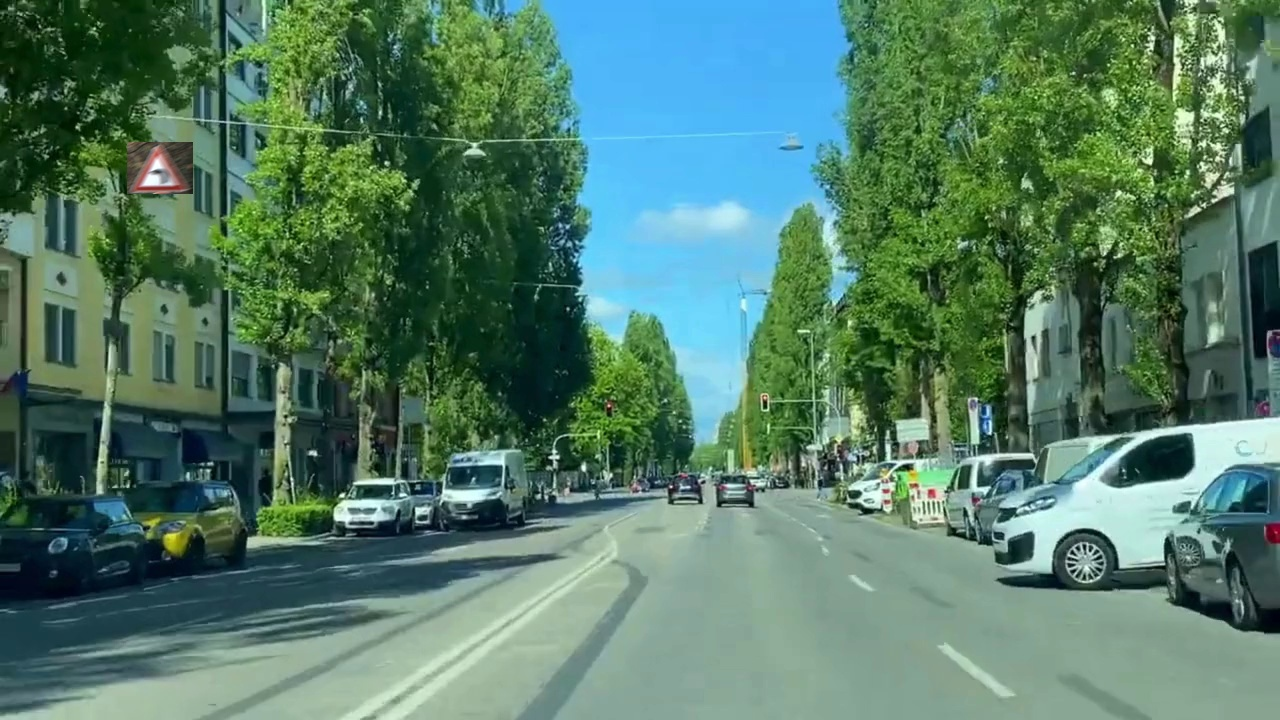Curve left: (127, 142, 193, 194)
